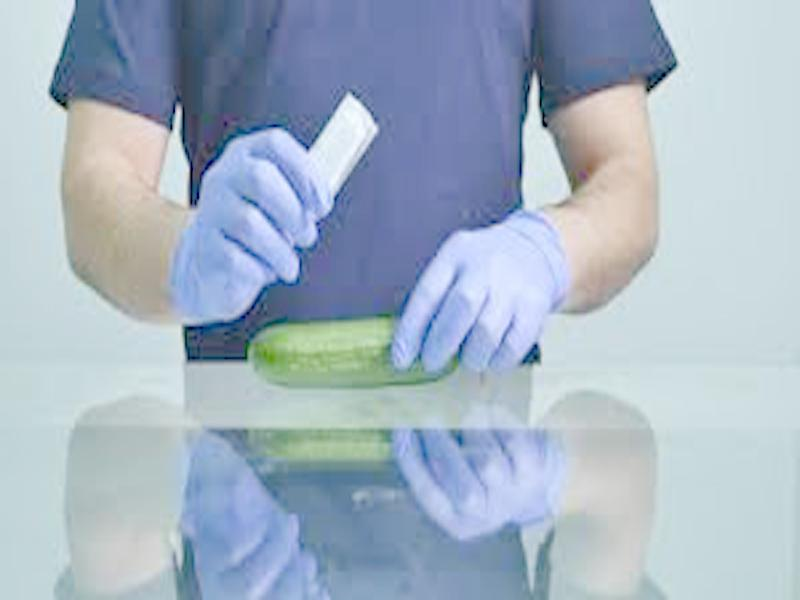Cucumber: (247, 318, 458, 389)
